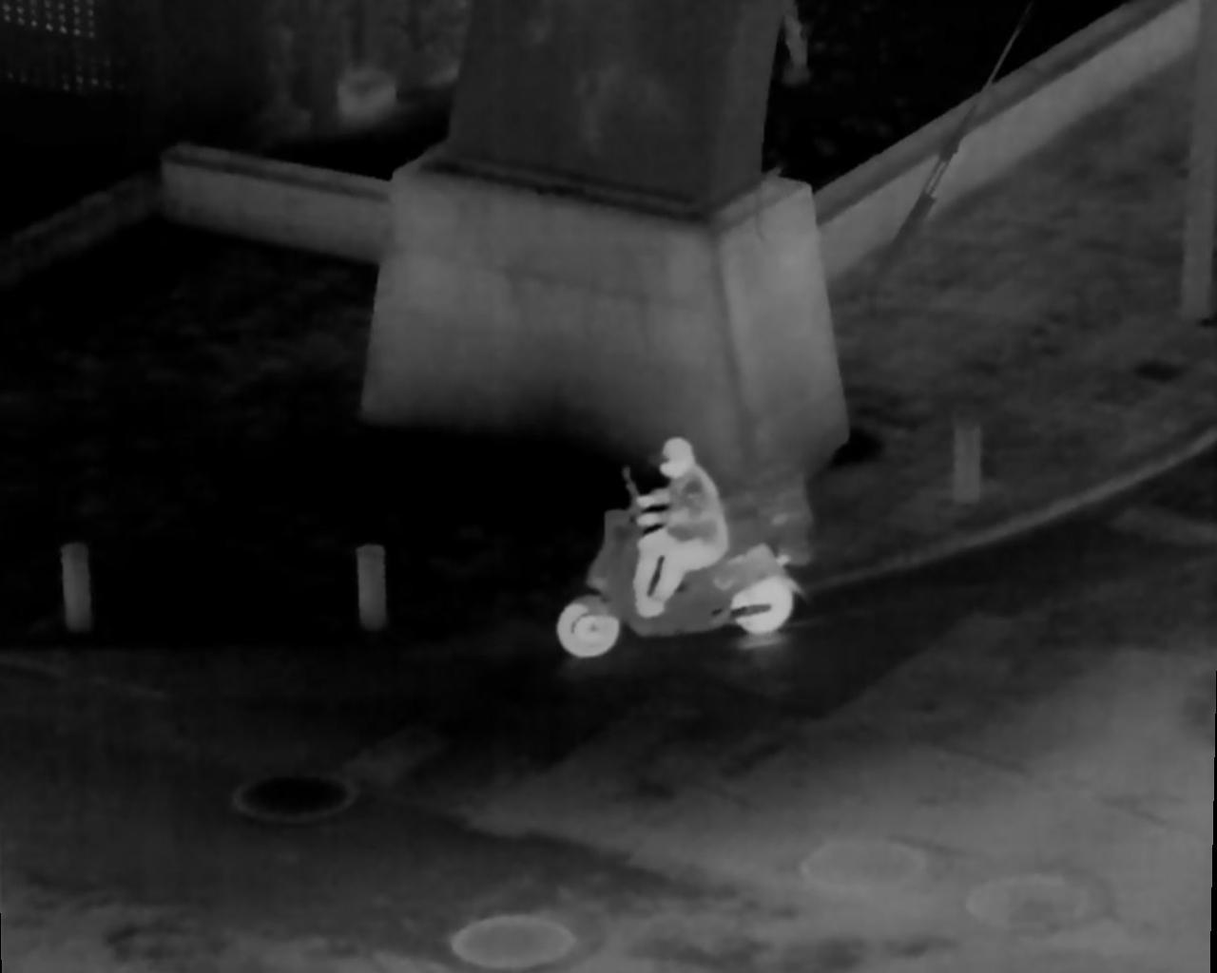person: (642, 438, 733, 628)
